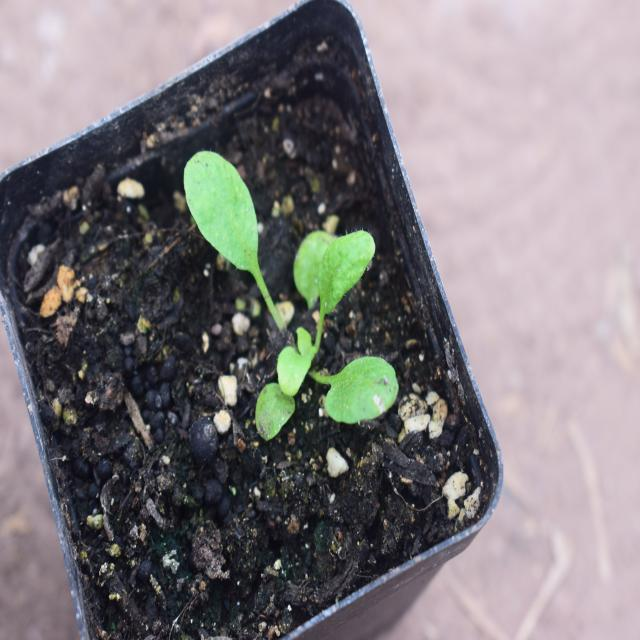Shepherd_Purse: (182, 148, 398, 438)
